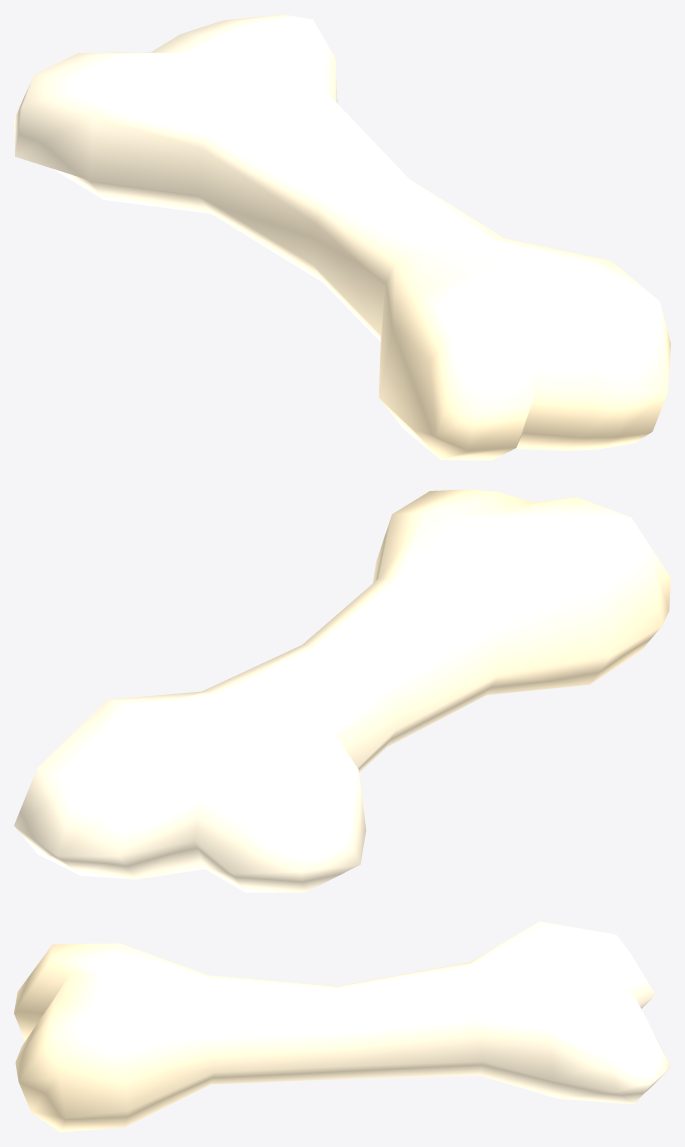
Rendered from bone_001.glb.
3 views of the same model, one above another, from view 1: azimuth 30°, elevation 25°; view 2: azimuth 150°, elevation 25°; view 3: azimuth 270°, elevation 25° (orthographic). The views are drawn at different scales.
Visible parts, largest first — view 1: bone_001; view 2: bone_001; view 3: bone_001.
Part boxes in pixels (x1=…): bone_001: x1=14, y1=14, x2=670, y2=460; bone_001: x1=14, y1=489, x2=670, y2=892; bone_001: x1=14, y1=921, x2=670, y2=1132.
Size of the model in its own units: 0.544 by 0.3069 by 1.31.
Materials: 1 (1 with a texture image).
